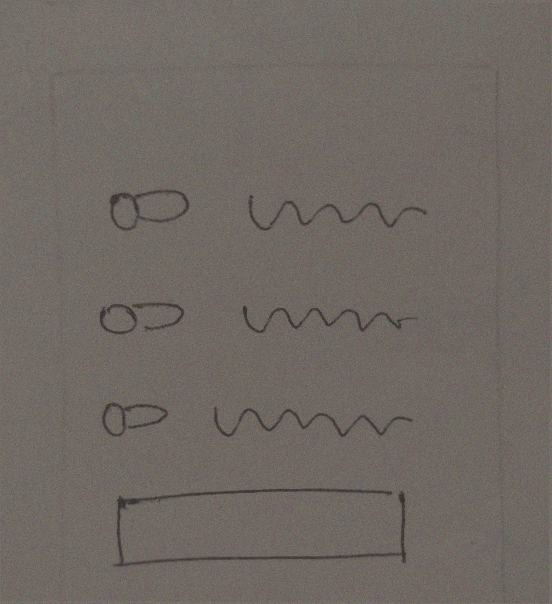switch: (85, 281, 192, 351), (80, 381, 183, 449), (101, 181, 201, 238)
text: (232, 178, 437, 246), (203, 389, 426, 448), (234, 287, 423, 346)
text_input: (95, 473, 432, 587)
